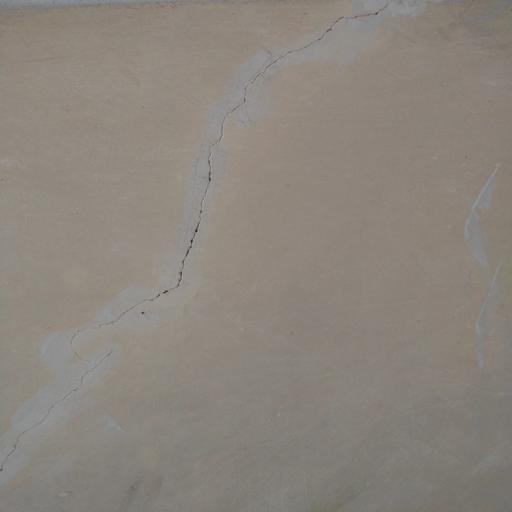minor_crack: (9, 10, 431, 512)
